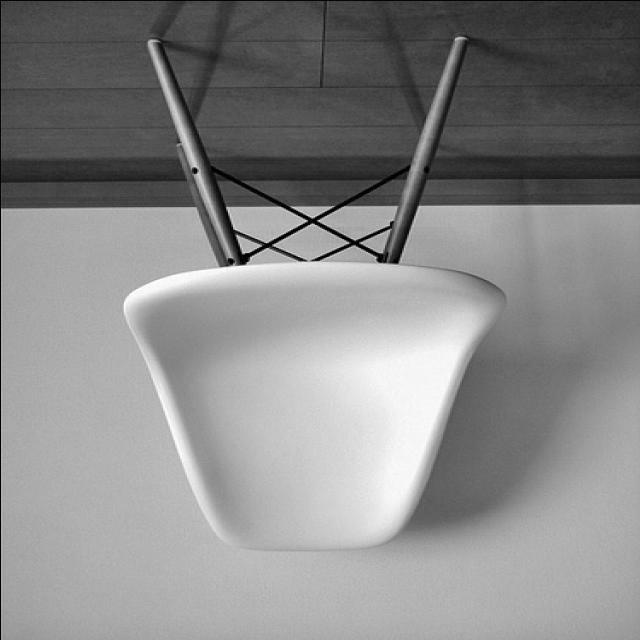chair: (119, 36, 508, 552)
